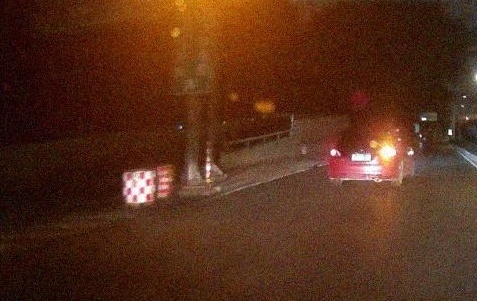L_light: (329, 149, 348, 158)
R_light: (374, 148, 396, 157)
T_light: (365, 122, 379, 125)
night-right: (328, 121, 405, 189)
